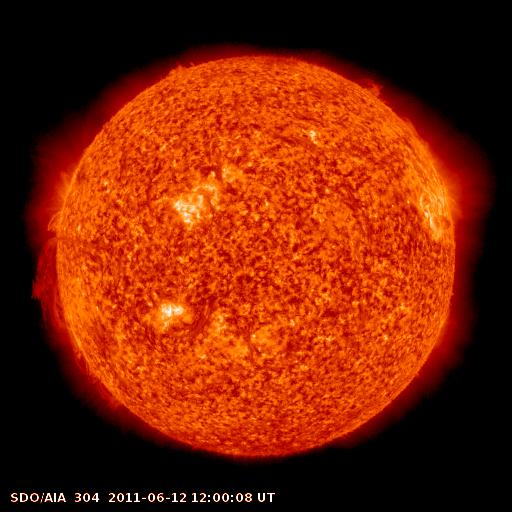prominence: (27, 239, 131, 417), (347, 70, 390, 107)
